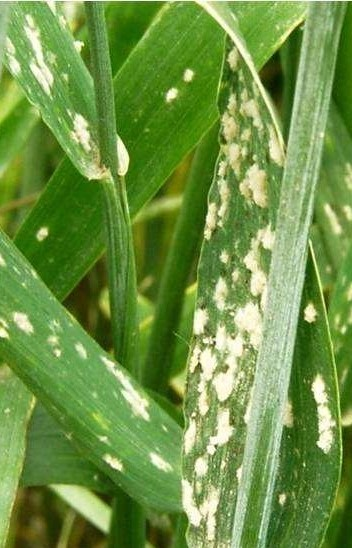Powdery Mildew: (176, 57, 292, 504)
